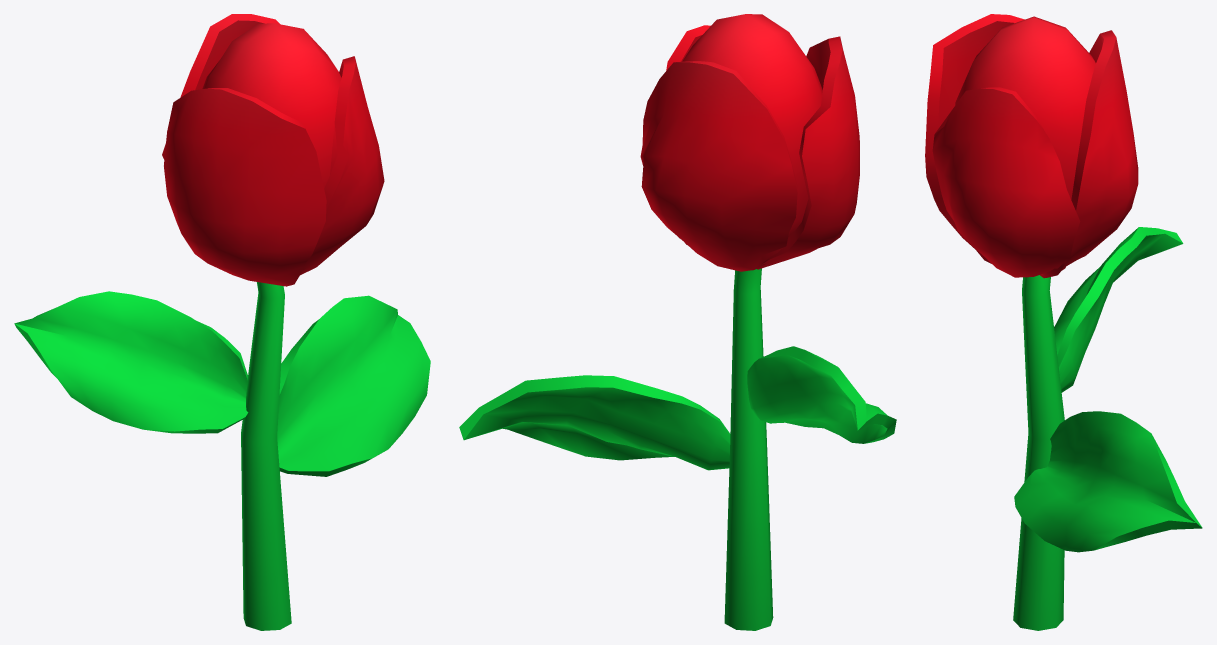
The model's file is Farm_Crop_Tulip_01.fbx.
The picture shows the model from 3 angles, left to right: view 1: azimuth 30°, elevation 25°; view 2: azimuth 150°, elevation 25°; view 3: azimuth 270°, elevation 25°; orthographic projection.
Parts seen in each view (by area): view 1: Farm_Crop_Tulip_01; view 2: Farm_Crop_Tulip_01; view 3: Farm_Crop_Tulip_01.
Boxes of the visible parts, box(x1,y1,x2,y2) form: Farm_Crop_Tulip_01: box(14, 14, 430, 630); Farm_Crop_Tulip_01: box(459, 14, 896, 630); Farm_Crop_Tulip_01: box(925, 14, 1202, 630).
Bounding box in the file's own units: 71.81 × 104 × 43.37.
